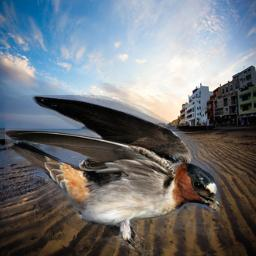Swallow: (5, 95, 220, 256)
